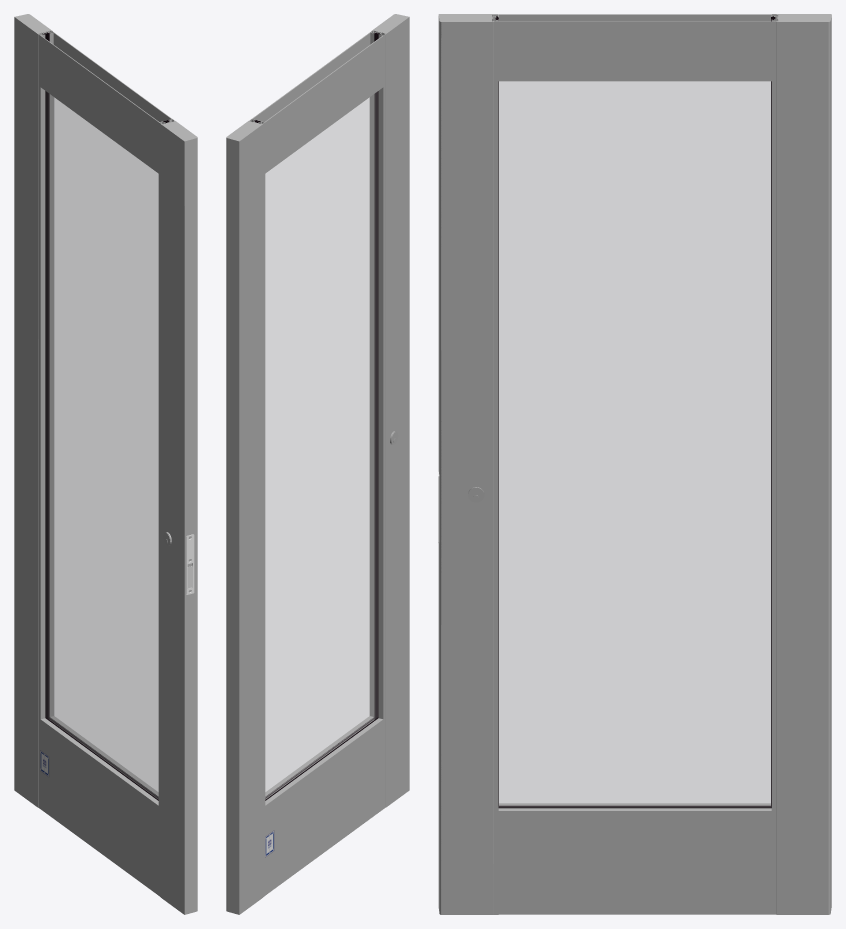
3 renders of one model, left to right at view 1: azimuth 30°, elevation 25°; view 2: azimuth 150°, elevation 25°; view 3: azimuth 270°, elevation 25°, orthographic. The views are drawn at different scales.
Parts seen in each view (by area): view 1: Cube.011, PROFILE_curve_.067, D500, PROFILE_curve_.066, PROFILE_curve_.065, rubber_curve_.071, rubber_curve_.072, Cube.009; view 2: Cube.011, D500, PROFILE_curve_.067, PROFILE_curve_.066, PROFILE_curve_.065, rubber_curve_.069, rubber_curve_.070; view 3: Cube.011, D500, PROFILE_curve_.067, PROFILE_curve_.066, PROFILE_curve_.065, rubber_curve_.067.
Part boxes in pixels (bbox=[...]): Cube.011: bbox=[45, 91, 158, 799]; PROFILE_curve_.067: bbox=[158, 119, 197, 914]; D500: bbox=[14, 14, 54, 808]; PROFILE_curve_.066: bbox=[40, 716, 158, 895]; PROFILE_curve_.065: bbox=[40, 32, 171, 173]; rubber_curve_.071: bbox=[46, 32, 49, 719]; rubber_curve_.072: bbox=[43, 33, 46, 717]; Cube.009: bbox=[186, 534, 194, 594]; Cube.011: bbox=[265, 91, 378, 799]; D500: bbox=[226, 119, 265, 914]; PROFILE_curve_.067: bbox=[369, 14, 409, 808]; PROFILE_curve_.066: bbox=[265, 716, 383, 895]; PROFILE_curve_.065: bbox=[252, 32, 383, 173]; rubber_curve_.069: bbox=[374, 32, 377, 719]; rubber_curve_.070: bbox=[377, 33, 380, 717]; Cube.011: bbox=[499, 81, 770, 807]; D500: bbox=[771, 14, 831, 914]; PROFILE_curve_.067: bbox=[438, 14, 498, 914]; PROFILE_curve_.066: bbox=[498, 803, 771, 914]; PROFILE_curve_.065: bbox=[498, 14, 771, 81]; rubber_curve_.067: bbox=[499, 805, 770, 807].
Bounding box in the file's own units: 0.054 × 2.29 × 0.915.
Materials: 7 (1 with a texture image).
